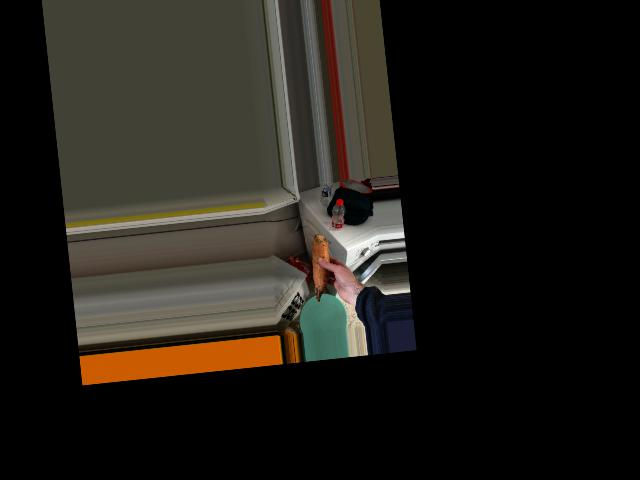sweet_potato: (303, 229, 339, 303)
